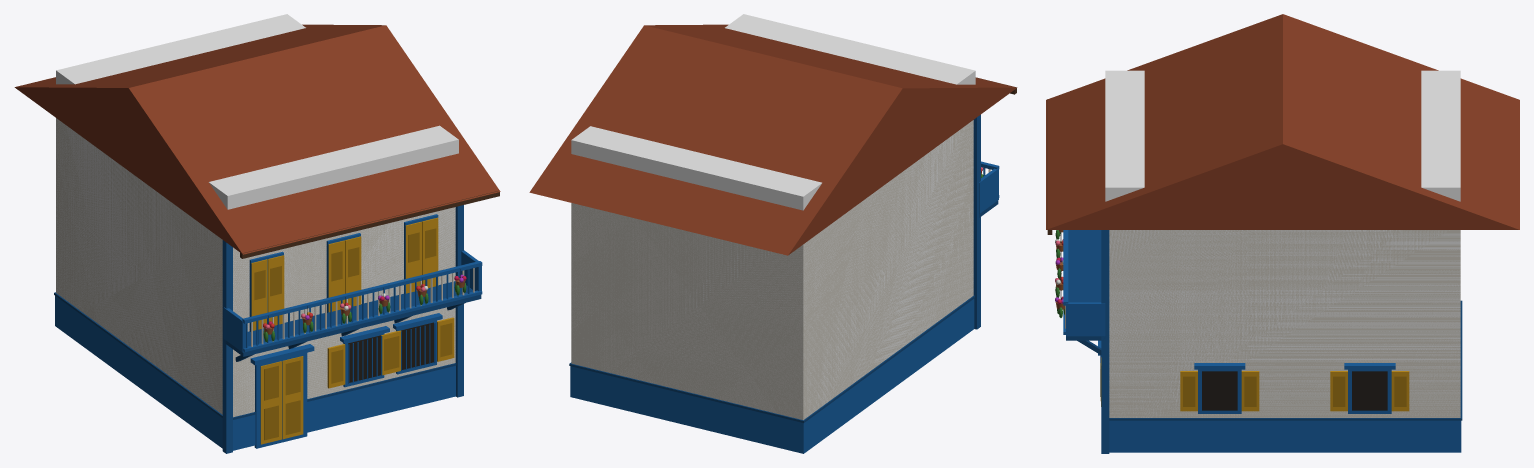
File: casa_cafetera_azul.glb
The picture shows the model from 3 angles, left to right: view 1: azimuth 30°, elevation 25°; view 2: azimuth 150°, elevation 25°; view 3: azimuth 270°, elevation 25°; orthographic projection. The views are drawn at different scales.
Visible parts, largest first — view 1: casa_cafetera_azul_Malla, COL_0; view 2: casa_cafetera_azul_Malla, COL_0; view 3: casa_cafetera_azul_Malla, COL_0.
Boxes of the visible parts, x1,y1,x2,y2 form: casa_cafetera_azul_Malla: (14,24,500,453); COL_0: (56,14,458,416); casa_cafetera_azul_Malla: (529,24,1017,453); COL_0: (571,14,975,419); casa_cafetera_azul_Malla: (1046,14,1519,453); COL_0: (1105,70,1460,417).
Bounding box in the file's own units: 7.8 × 8.88 × 12.
